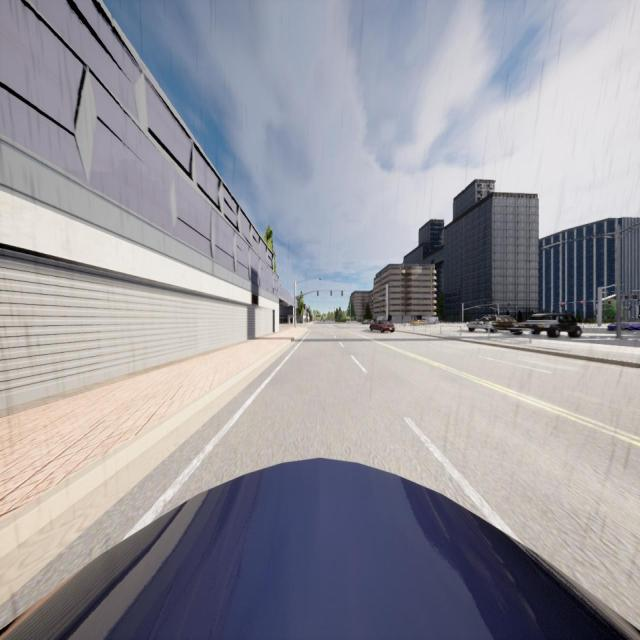Vehicle: (0, 457, 640, 640), (523, 313, 582, 337), (494, 315, 522, 334), (467, 315, 495, 332), (369, 319, 395, 333), (606, 320, 628, 331), (408, 318, 427, 326), (625, 322, 640, 331)
traffic_light: (560, 303, 563, 308), (330, 291, 332, 296), (608, 299, 610, 304), (366, 299, 368, 303), (580, 302, 582, 306), (317, 291, 318, 296), (372, 299, 373, 302), (342, 291, 342, 296)
